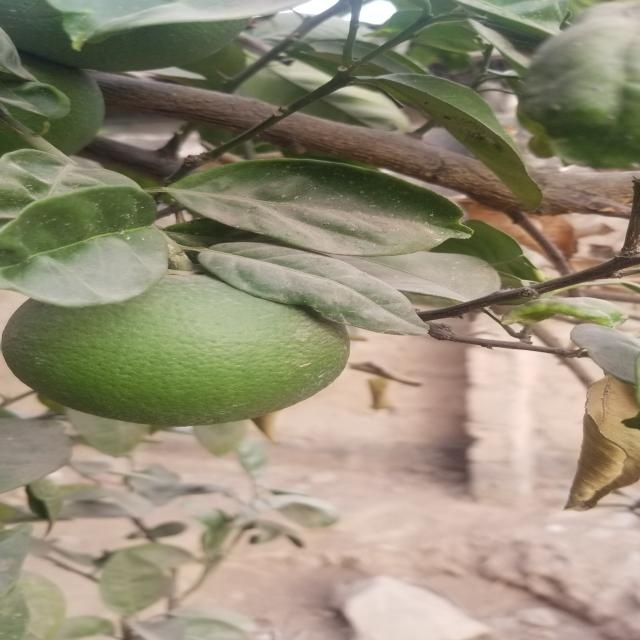agrume: (0, 268, 359, 430)
